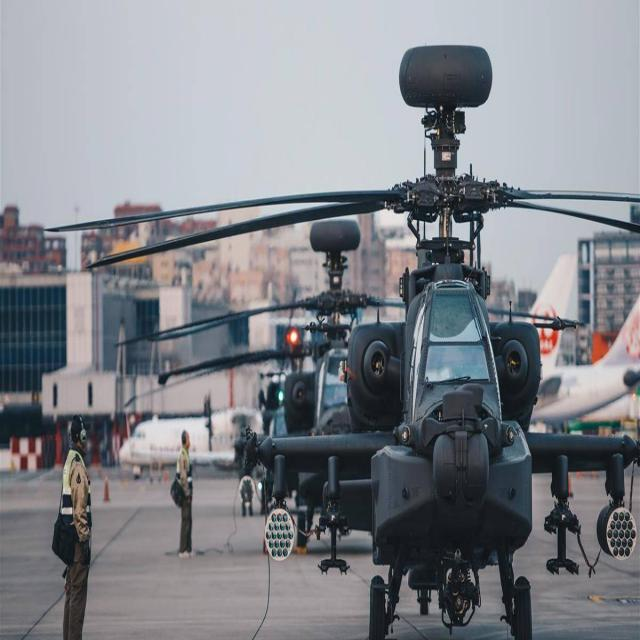MIL_HELO: (46, 44, 640, 640), (133, 222, 396, 491)
